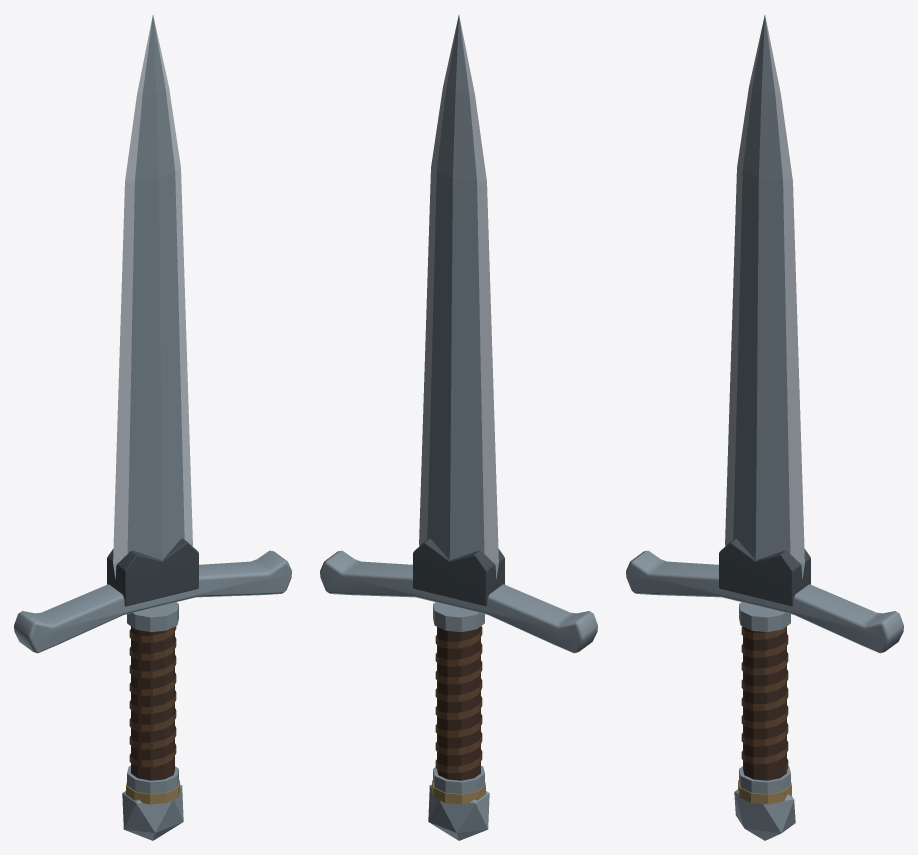
File: Crownless_Iron_Sword.glb
3 views of the same model, side by side, from view 1: azimuth 30°, elevation 25°; view 2: azimuth 150°, elevation 25°; view 3: azimuth 330°, elevation 25° (orthographic).
Parts seen in each view (by area): view 1: Sword | refined ridged blade, Sword | plain swept crossguard, Sword | leather grip, Sword | steel rain guard, Sword | leather binding, Sword | simple iron pommel, Sword | upper ferrule, Sword | lower ferrule, Sword | pommel washer; view 2: Sword | refined ridged blade, Sword | plain swept crossguard, Sword | leather grip, Sword | steel rain guard, Sword | leather binding, Sword | simple iron pommel, Sword | upper ferrule, Sword | lower ferrule, Sword | pommel washer; view 3: Sword | refined ridged blade, Sword | plain swept crossguard, Sword | leather grip, Sword | steel rain guard, Sword | leather binding, Sword | simple iron pommel, Sword | upper ferrule, Sword | lower ferrule, Sword | pommel washer.
Boxes of the visible parts, <box> form: Sword | refined ridged blade: <box>113,15,192,579</box>; Sword | plain swept crossguard: <box>14,550,291,653</box>; Sword | leather grip: <box>131,626,174,780</box>; Sword | steel rain guard: <box>107,538,198,606</box>; Sword | leather binding: <box>129,626,176,767</box>; Sword | simple iron pommel: <box>122,784,183,840</box>; Sword | upper ferrule: <box>127,602,178,631</box>; Sword | lower ferrule: <box>127,766,178,794</box>; Sword | pommel washer: <box>126,780,179,804</box>; Sword | refined ridged blade: <box>419,15,498,579</box>; Sword | plain swept crossguard: <box>320,550,597,653</box>; Sword | leather grip: <box>437,626,480,780</box>; Sword | steel rain guard: <box>413,538,504,606</box>; Sword | leather binding: <box>435,626,482,773</box>; Sword | simple iron pommel: <box>428,784,489,840</box>; Sword | upper ferrule: <box>433,602,484,631</box>; Sword | lower ferrule: <box>433,766,484,794</box>; Sword | pommel washer: <box>432,780,485,804</box>; Sword | refined ridged blade: <box>725,15,804,579</box>; Sword | plain swept crossguard: <box>626,550,903,653</box>; Sword | leather grip: <box>743,626,786,780</box>; Sword | steel rain guard: <box>719,538,810,606</box>; Sword | leather binding: <box>741,626,788,773</box>; Sword | simple iron pommel: <box>734,789,795,840</box>; Sword | upper ferrule: <box>739,602,790,631</box>; Sword | lower ferrule: <box>739,766,790,794</box>; Sword | pommel washer: <box>738,780,791,804</box>.
Bounding box in the file's own units: 1.98 × 5.93 × 0.36.
